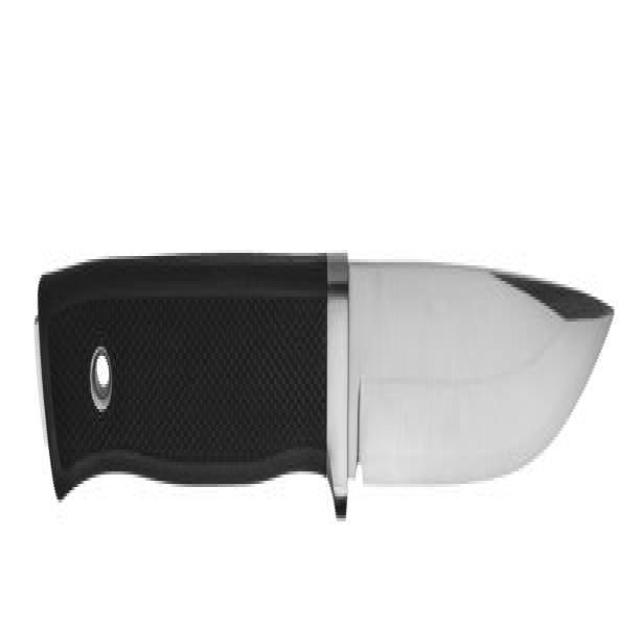knife: (28, 225, 626, 556)
